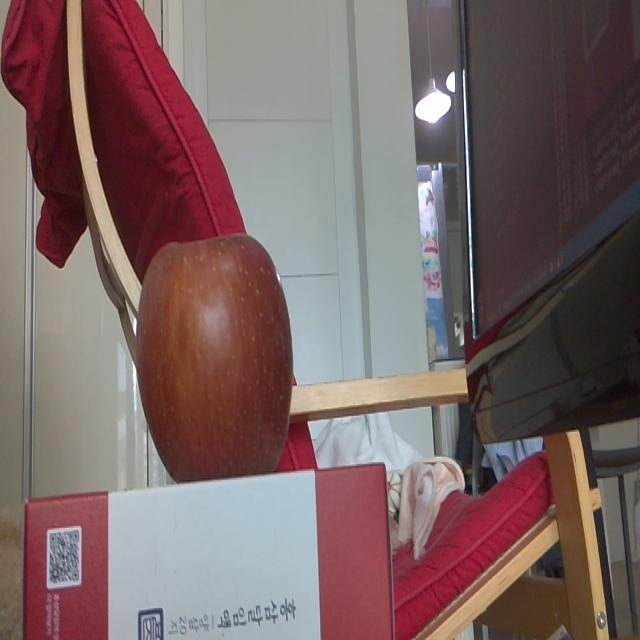apple: (137, 236, 297, 480)
